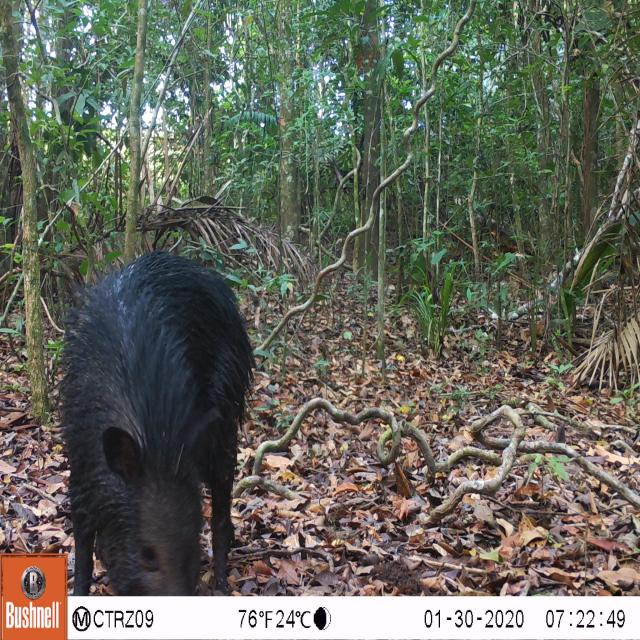Collared Peccary: (54, 239, 260, 592)
